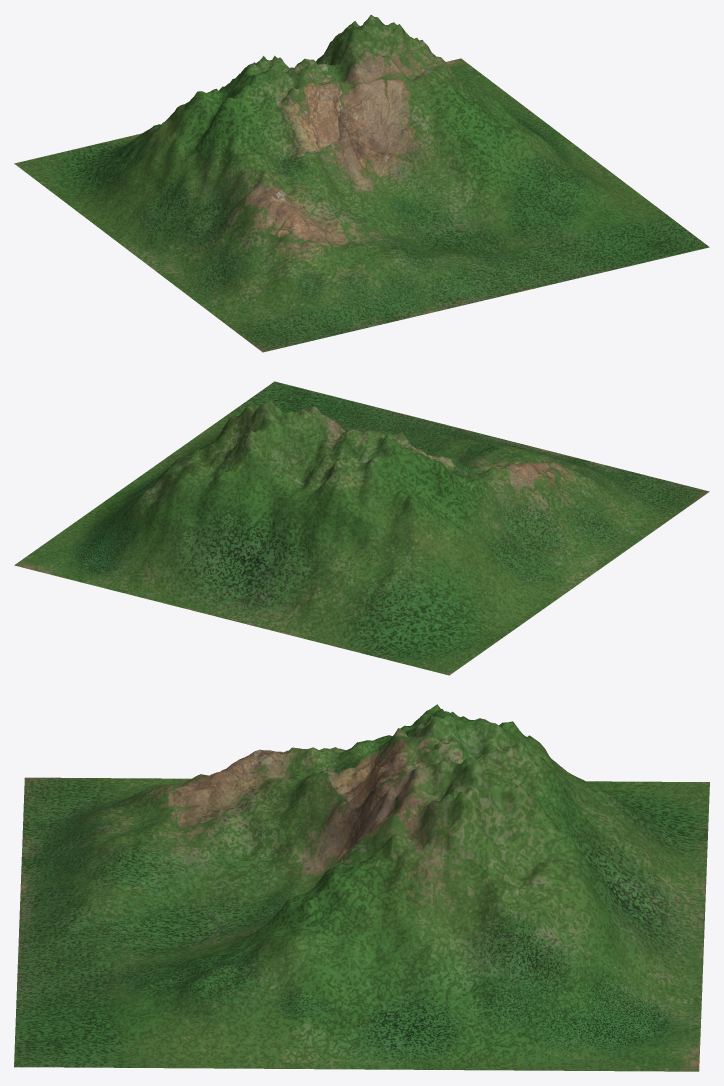
The picture shows the model from 3 angles, top to bottom: view 1: azimuth 30°, elevation 25°; view 2: azimuth 150°, elevation 25°; view 3: azimuth 270°, elevation 25°; orthographic projection. The views are drawn at different scales.
Parts seen in each view (by area): view 1: Landscape.005; view 2: Landscape.005; view 3: Landscape.005.
Part boxes in pixels (left/top/right/bottom): Landscape.005: left=14, top=15, right=709, bottom=352; Landscape.005: left=14, top=381, right=709, bottom=675; Landscape.005: left=14, top=704, right=709, bottom=1071.
Size of the model in its own units: 203 by 63.38 by 203.
1 material, 1 textured.
